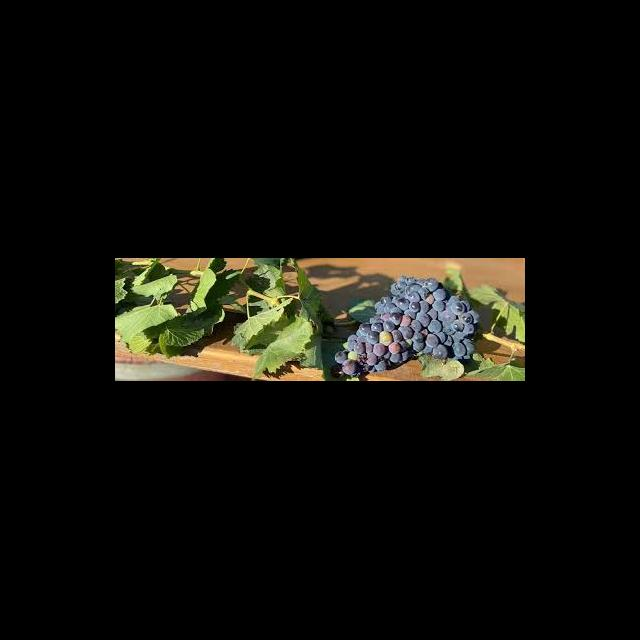grape: (330, 274, 479, 378)
